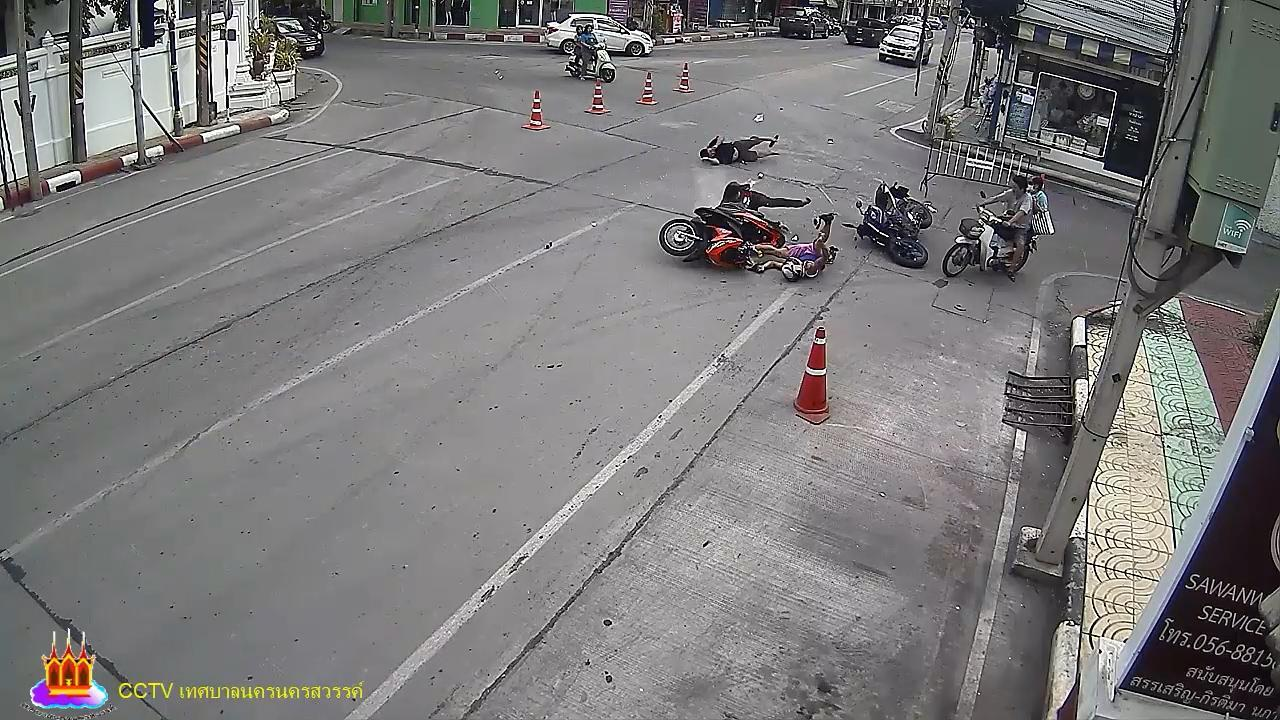accident: (745, 216, 842, 281), (697, 127, 786, 168)
